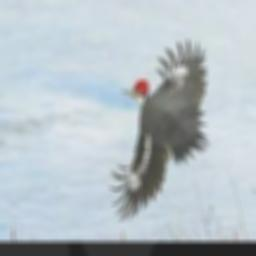Woodpecker: (108, 38, 210, 220)
